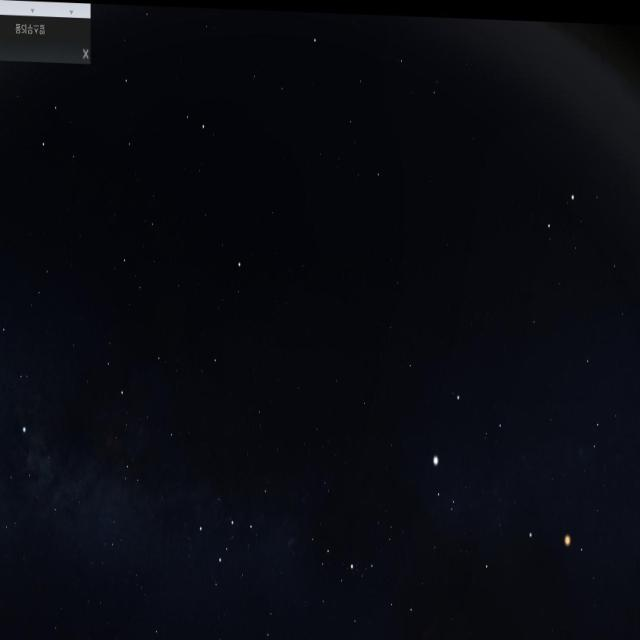cassiopeia: (195, 458, 279, 581)
